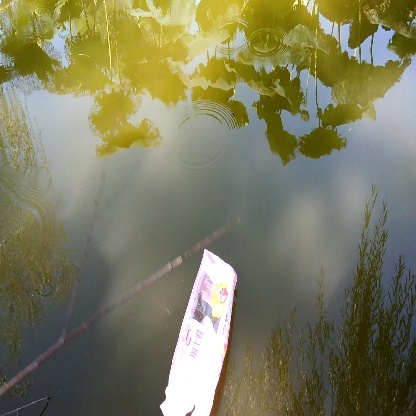plastic-bag: (151, 250, 241, 416)
